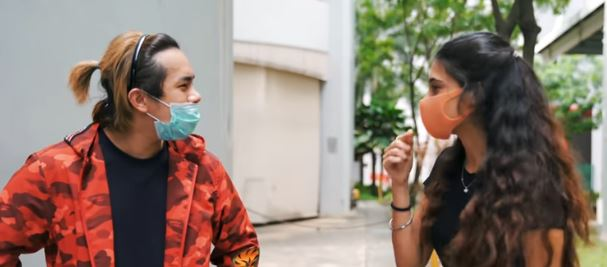with_incorrect_mask: (119, 49, 202, 141)
with_mask: (421, 69, 476, 135)
